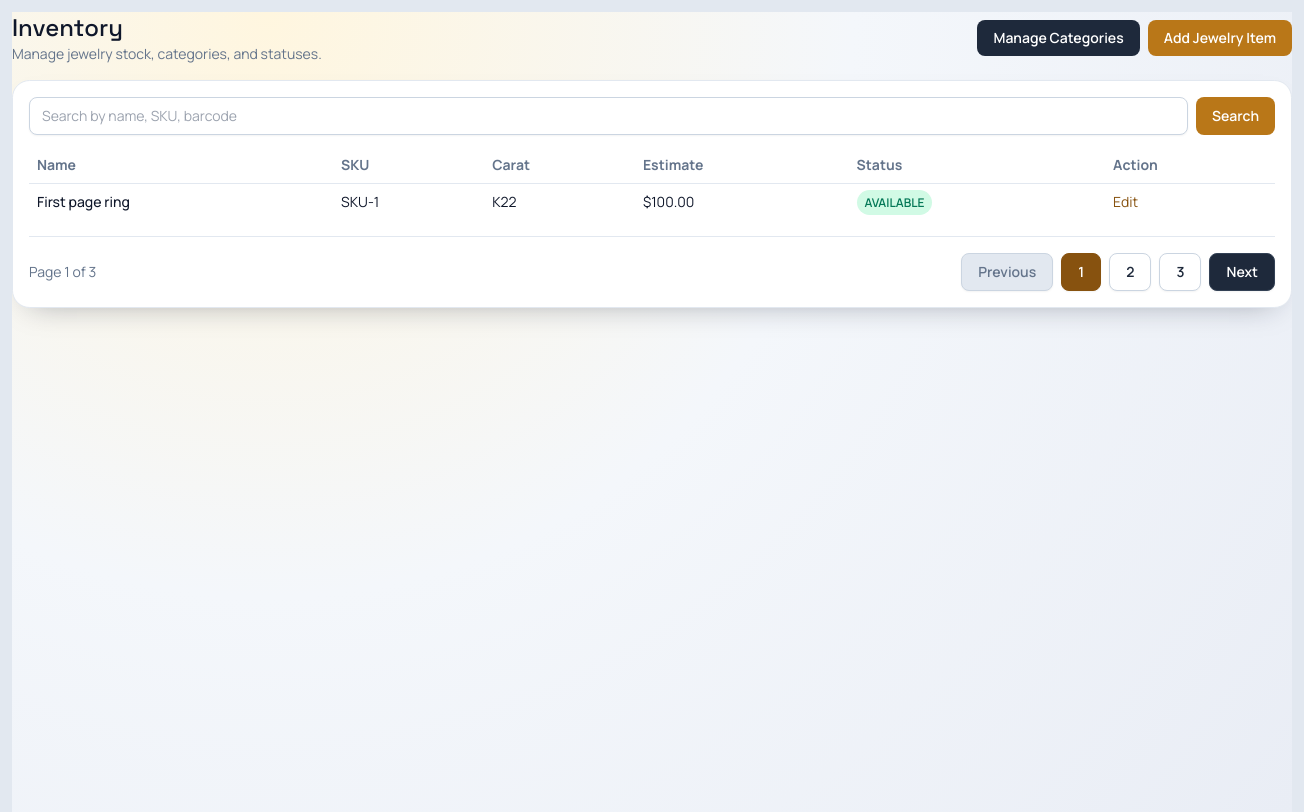
Test: InventoryPage pagination › requests the next exact-total page and updates the current page
The image size is (1304, 812).
Check: the text "First page ring" is shown, box [29,184,333,220]
Check: the text "Page 1 of 3" is shown, box [29,262,96,282]
Click the button "Next".
click(1242, 272)  # box [1210,253,1275,291]
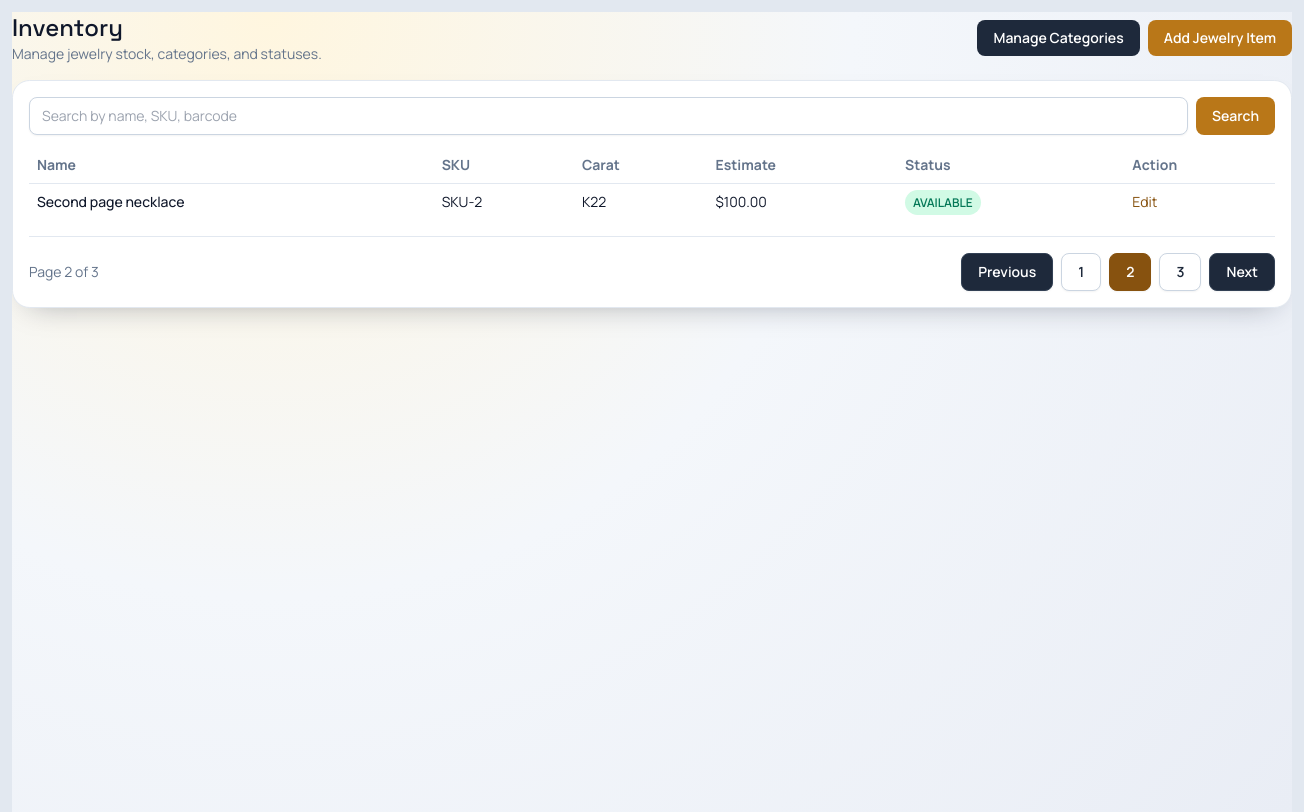
Check: the text "Second page necklace" is shown, box [29,184,434,220]
Check: the text "Page 2 of 3" is shown, box [29,262,99,282]
Check: the button "Previous" is enabled, box [961,253,1053,291]
